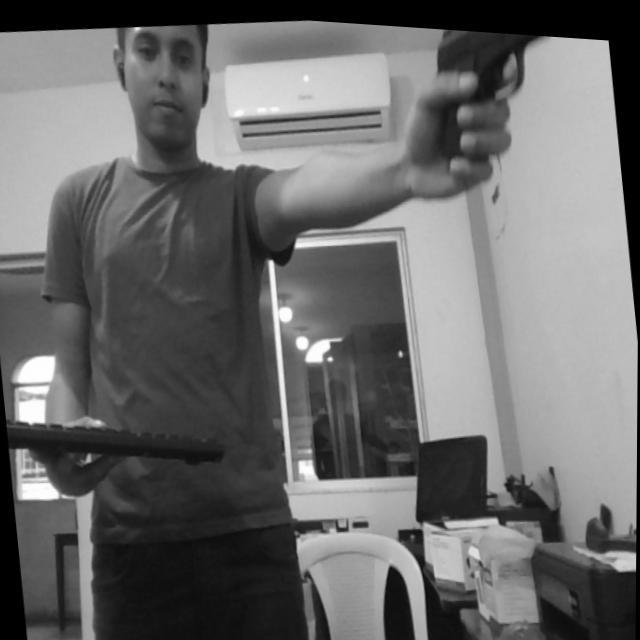weapon: (414, 22, 577, 173)
